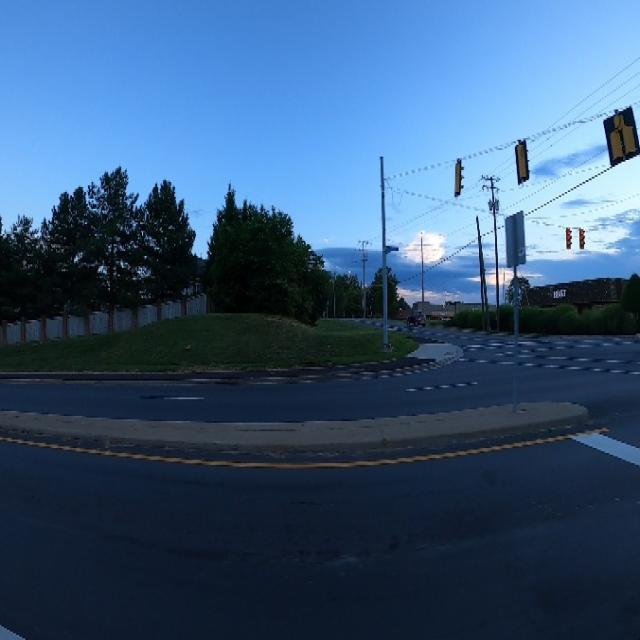cars: (407, 309, 426, 329)
